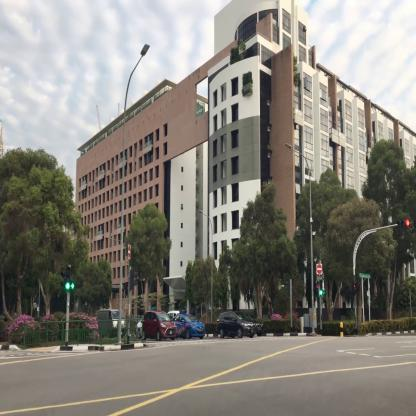green_traffic_light: (66, 267, 70, 292)
red_traffic_light: (397, 218, 411, 226)
